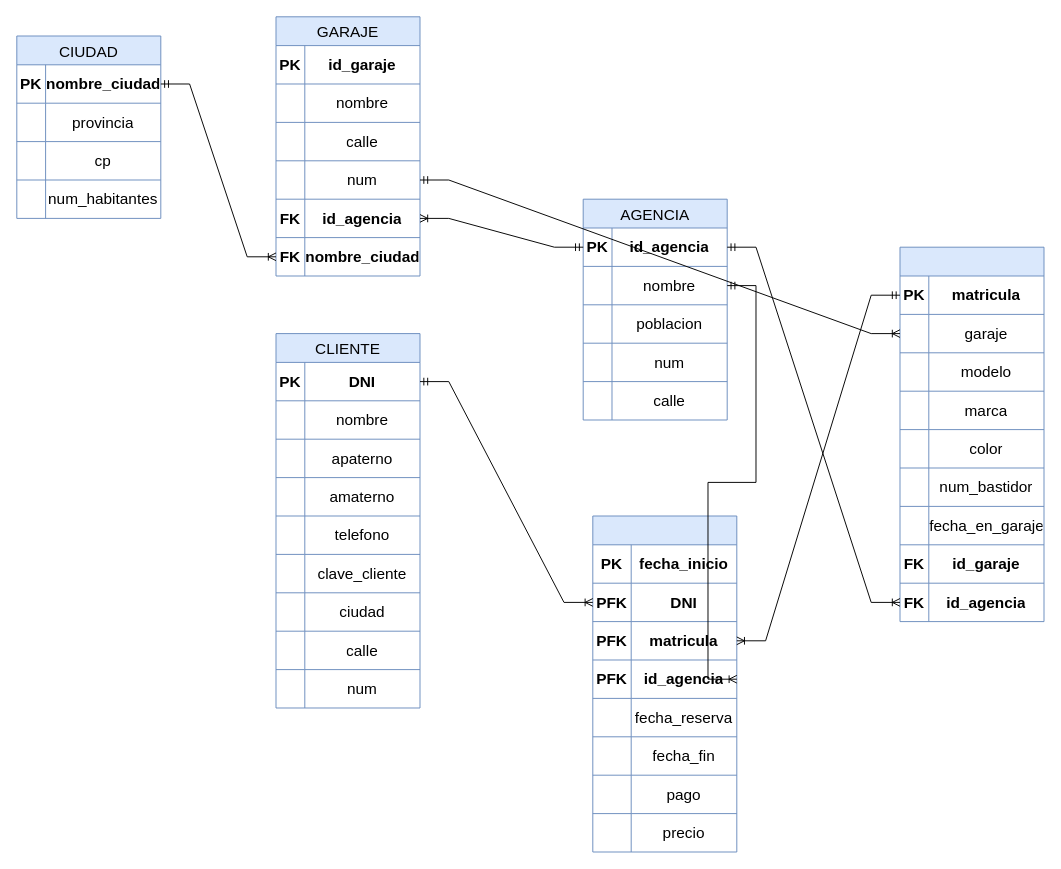
The diagram is 1061 pixels wide and 869 high, and some of its shapes have lost their labels. The box of each missing label's shape, as (x1, y1, x2, y2) in pixels:
ALQUILER_MOTO: (592, 515, 737, 852)
MOTOCICLETA: (899, 246, 1044, 622)
